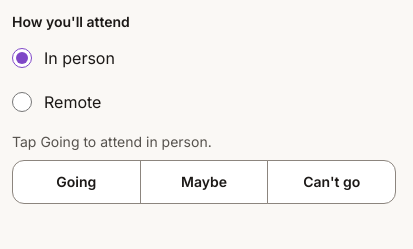
Test: RsvpButtons › disables Going when the picked remote pool is full with no waitlist
The image size is (413, 249).
Click the radio button labelled "Remote": (22, 102) [12,92,32,112]
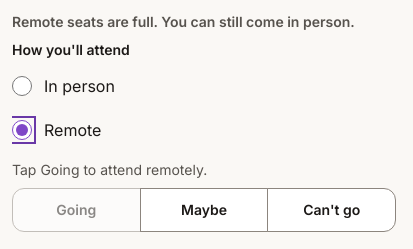
Expected: the text "Remote seats are full. You can still come in person." is shown, [12,13,355,30]
Expected: the button "Going" is disabled, [12,188,141,232]
